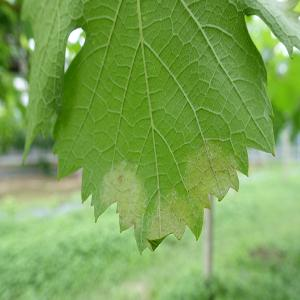Folha: (19, 0, 299, 255)
Fungo: (95, 157, 149, 234), (183, 140, 239, 204), (147, 194, 194, 244), (278, 61, 288, 74), (117, 174, 123, 183)
